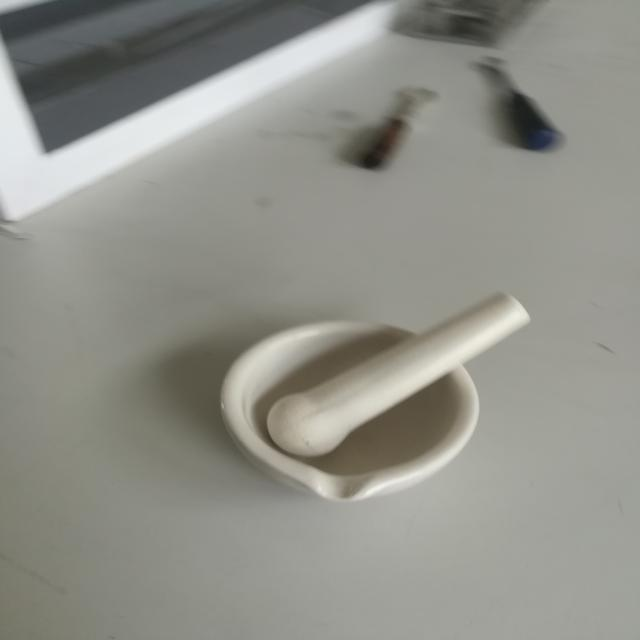Porcelain_Mortar Pestle: (190, 268, 584, 546)
